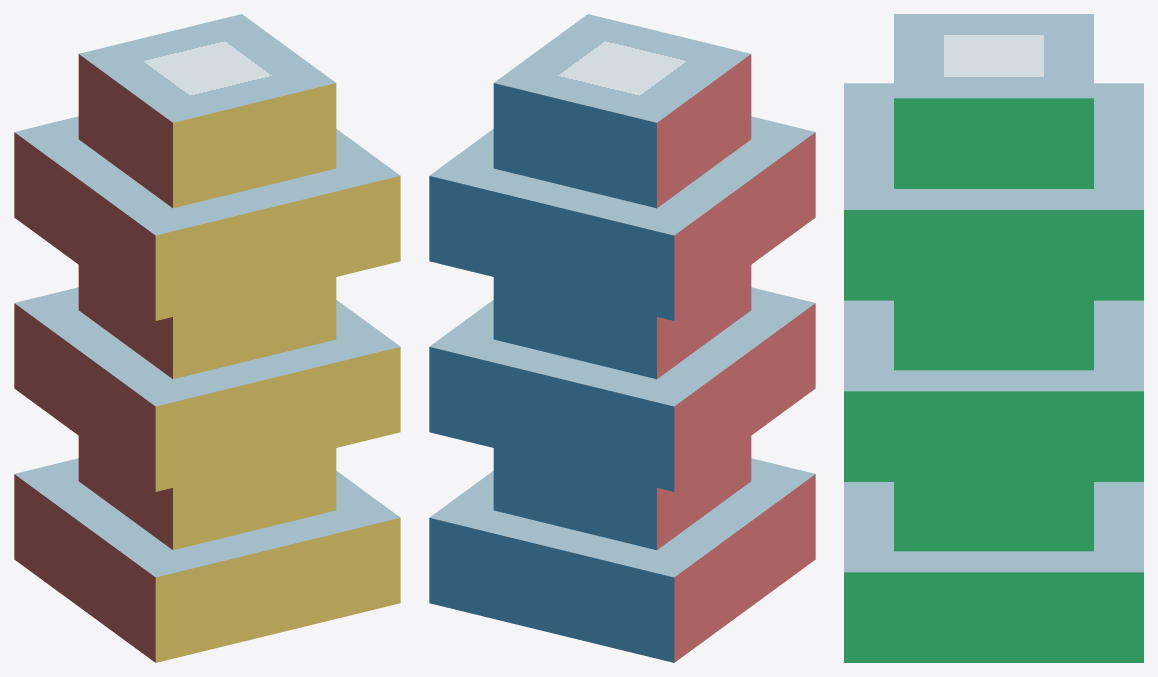
The model's file is connector_ehv.obj.
3 views of the same model, side by side, from view 1: azimuth 30°, elevation 25°; view 2: azimuth 150°, elevation 25°; view 3: azimuth 270°, elevation 25° (orthographic). The views are drawn at different scales.
Visible parts, largest first — view 1: cube; view 2: cube; view 3: cube.
Part boxes in pixels (left/top/right/bottom): cube: left=14, top=14, right=400, bottom=662; cube: left=429, top=14, right=815, bottom=662; cube: left=844, top=14, right=1143, bottom=662.
Bounding box in the file's own units: 0.375 × 0.75 × 0.375.
Materials: 1 (1 with a texture image).
